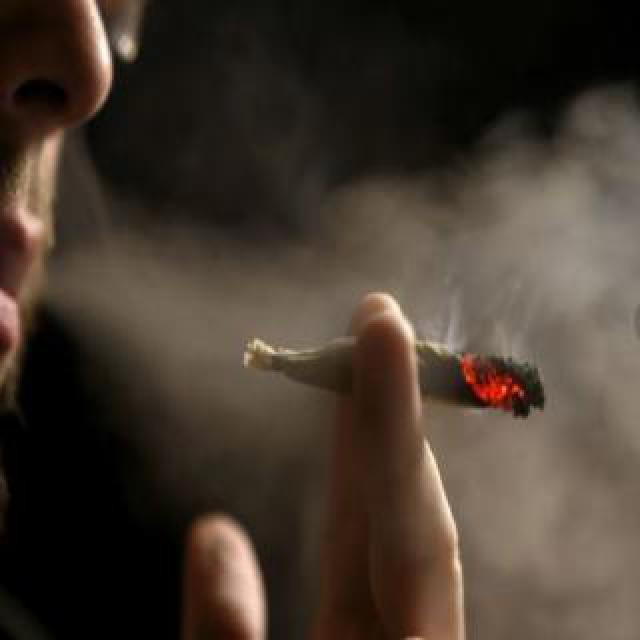Fire: (460, 344, 522, 412)
